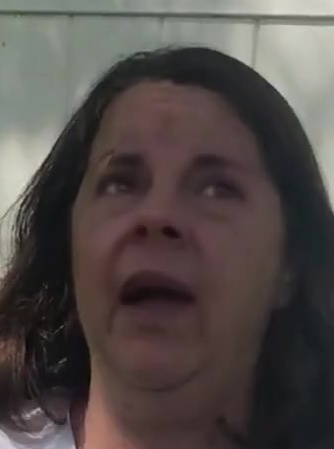eb_f: (85, 144, 255, 209)
